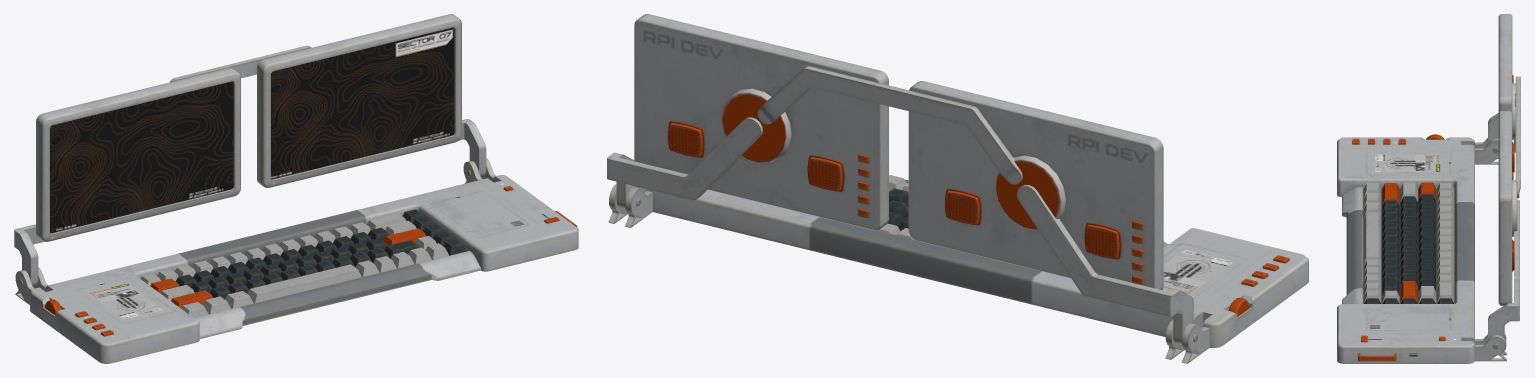
The model's file is computer.glb.
3 views of the same model, side by side, from view 1: azimuth 30°, elevation 25°; view 2: azimuth 150°, elevation 25°; view 3: azimuth 270°, elevation 25° (orthographic). The views are drawn at different scales.
Visible parts, largest first — view 1: Computer_Sec7, Monitor_2, Monitor_1, Computer_Sec7_Back; view 2: Monitor_1, Monitor_2, Computer_Sec7, Computer_Sec7_Back; view 3: Computer_Sec7, Monitor_1, Computer_Sec7_Back, Monitor_2.
Boxes of the visible parts, <box> form: Computer_Sec7: <box>15,158,578,363</box>; Monitor_2: <box>36,68,240,241</box>; Monitor_1: <box>257,14,461,187</box>; Computer_Sec7_Back: <box>14,45,486,286</box>; Monitor_1: <box>634,14,888,230</box>; Monitor_2: <box>908,81,1163,289</box>; Computer_Sec7: <box>608,175,1308,363</box>; Computer_Sec7_Back: <box>607,66,1193,344</box>; Computer_Sec7: <box>1337,134,1506,363</box>; Monitor_1: <box>1498,111,1517,305</box>; Computer_Sec7_Back: <box>1488,76,1520,339</box>; Monitor_2: <box>1498,14,1515,172</box>.
Bounding box in the file's own units: 0.8162 × 0.2766 × 0.2975.
1 material, 1 textured.
